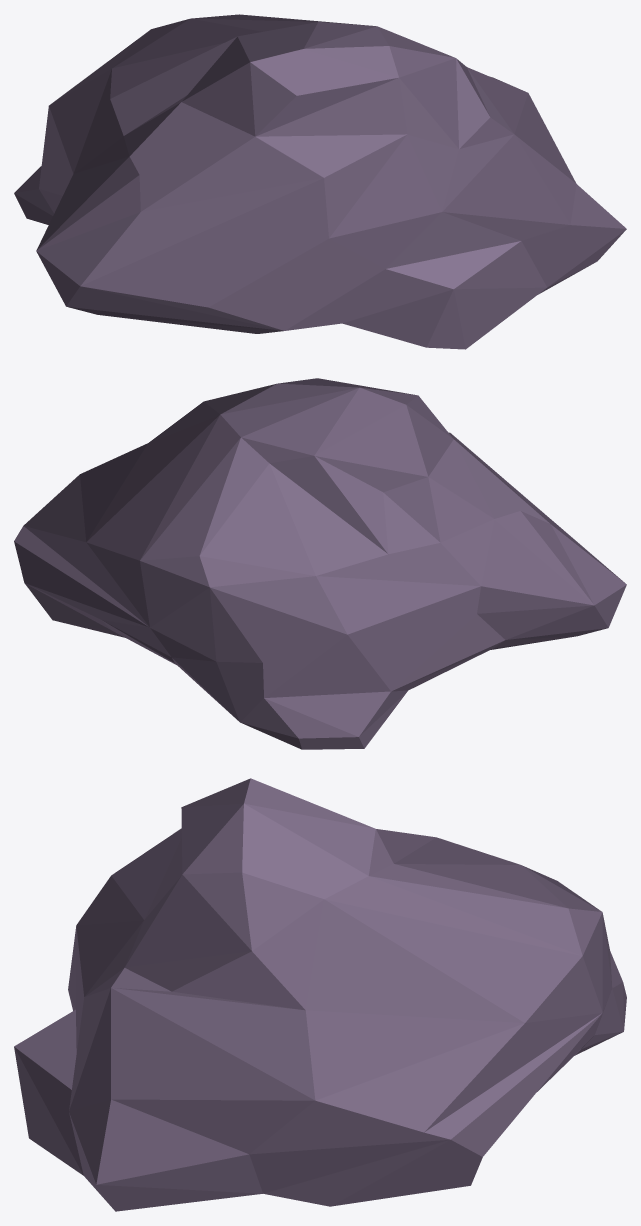
The model's file is Rock2.fbx.
3 renders of one model, top to bottom at view 1: azimuth 30°, elevation 25°; view 2: azimuth 150°, elevation 25°; view 3: azimuth 270°, elevation 25°, orthographic. The views are drawn at different scales.
Parts seen in each view (by area): view 1: Rock2; view 2: Rock2; view 3: Rock2.
Boxes of the visible parts, <box> form: Rock2: <box>14,14,626,349</box>; Rock2: <box>14,378,626,749</box>; Rock2: <box>14,778,626,1211</box>.
Size of the model in its own units: 2.15 by 1.01 by 1.87.
